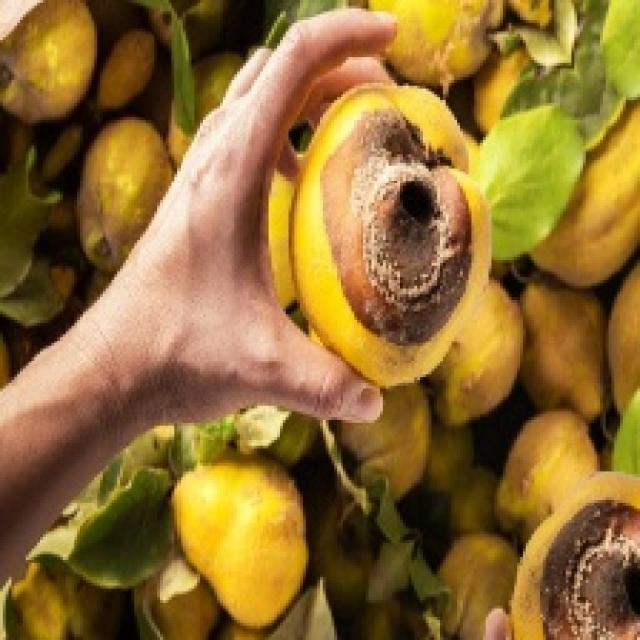rotten_apple: (296, 89, 489, 382), (517, 474, 640, 640), (391, 0, 506, 80)
